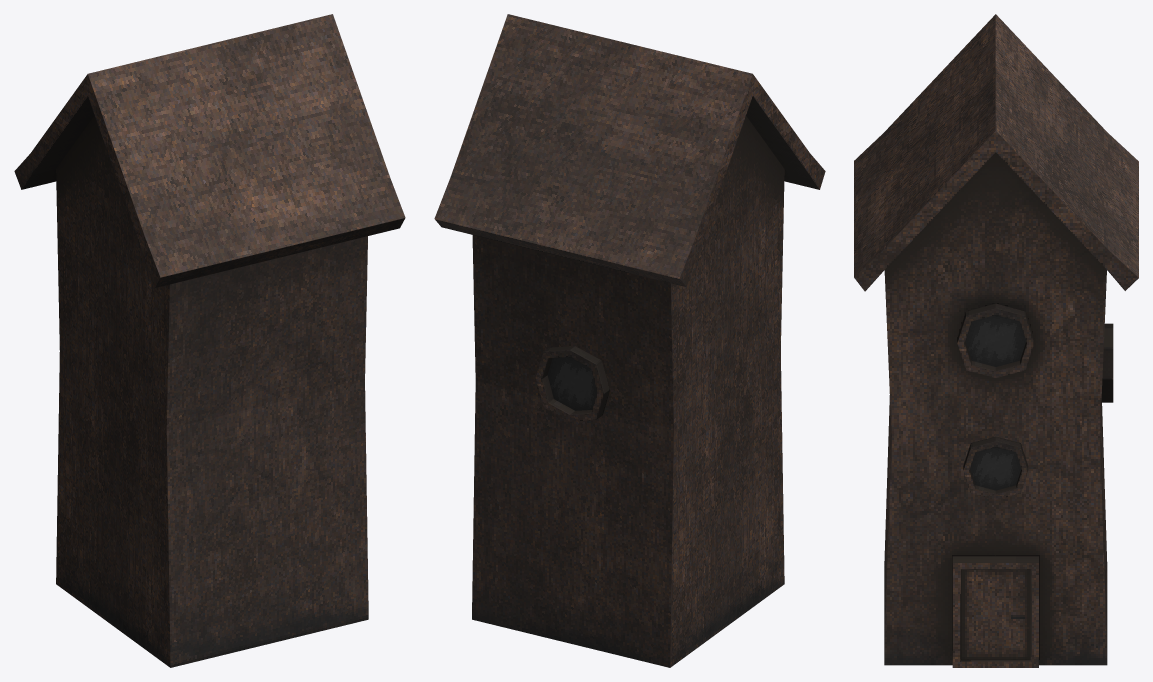
Rendered from house1.glb.
The picture shows the model from 3 angles, left to right: view 1: azimuth 30°, elevation 25°; view 2: azimuth 150°, elevation 25°; view 3: azimuth 270°, elevation 25°; orthographic projection. The views are drawn at different scales.
Visible parts, largest first — view 1: Cube.001; view 2: Cube.001; view 3: Cube.001.
Part boxes in pixels (x1,y1,x2,y2): Cube.001: (14, 14, 405, 667); Cube.001: (434, 14, 825, 667); Cube.001: (854, 14, 1138, 667).
Size of the model in its own units: 5.6 by 12.18 by 5.78.
1 material, 1 textured.
